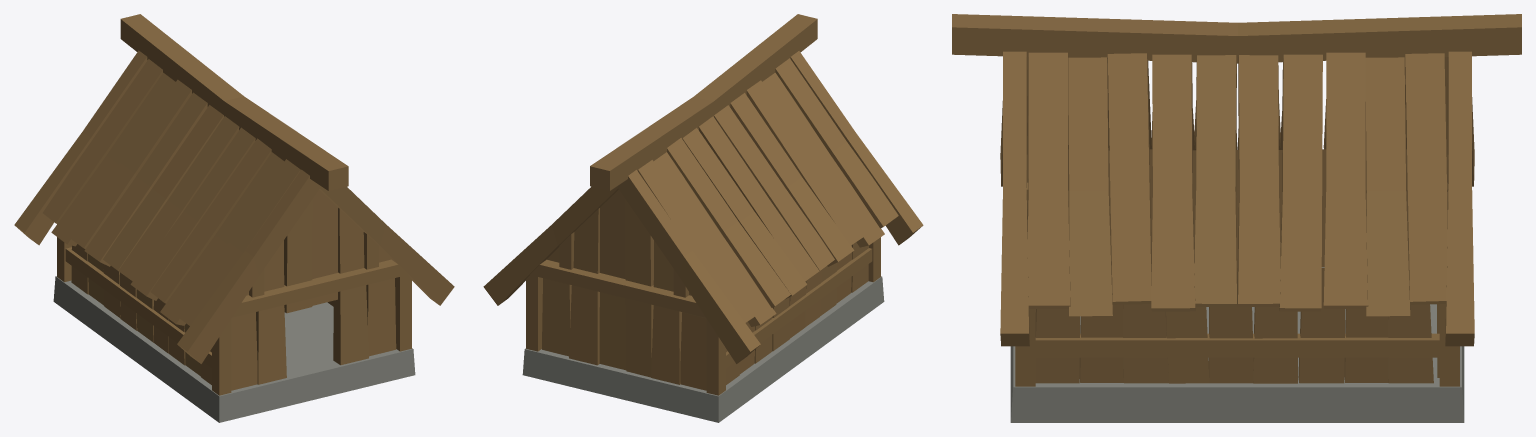
The model's file is House.glb.
The picture shows the model from 3 angles, left to right: view 1: azimuth 30°, elevation 25°; view 2: azimuth 150°, elevation 25°; view 3: azimuth 270°, elevation 25°; orthographic projection. The views are drawn at different scales.
Visible parts, largest first — view 1: Houses_FirstAge_1_Level3; view 2: Houses_FirstAge_1_Level3; view 3: Houses_FirstAge_1_Level3.
Part boxes in pixels (x1,y1,x2,y2): Houses_FirstAge_1_Level3: (14, 14, 454, 422); Houses_FirstAge_1_Level3: (483, 14, 923, 422); Houses_FirstAge_1_Level3: (952, 14, 1521, 422).
Bounding box in the file's own units: 0.8693 × 0.7645 × 1.17.
